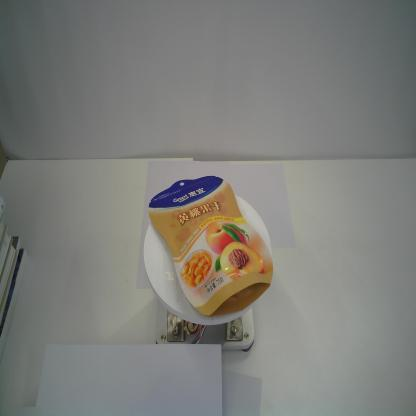Dried Fruit: (146, 172, 274, 320)
